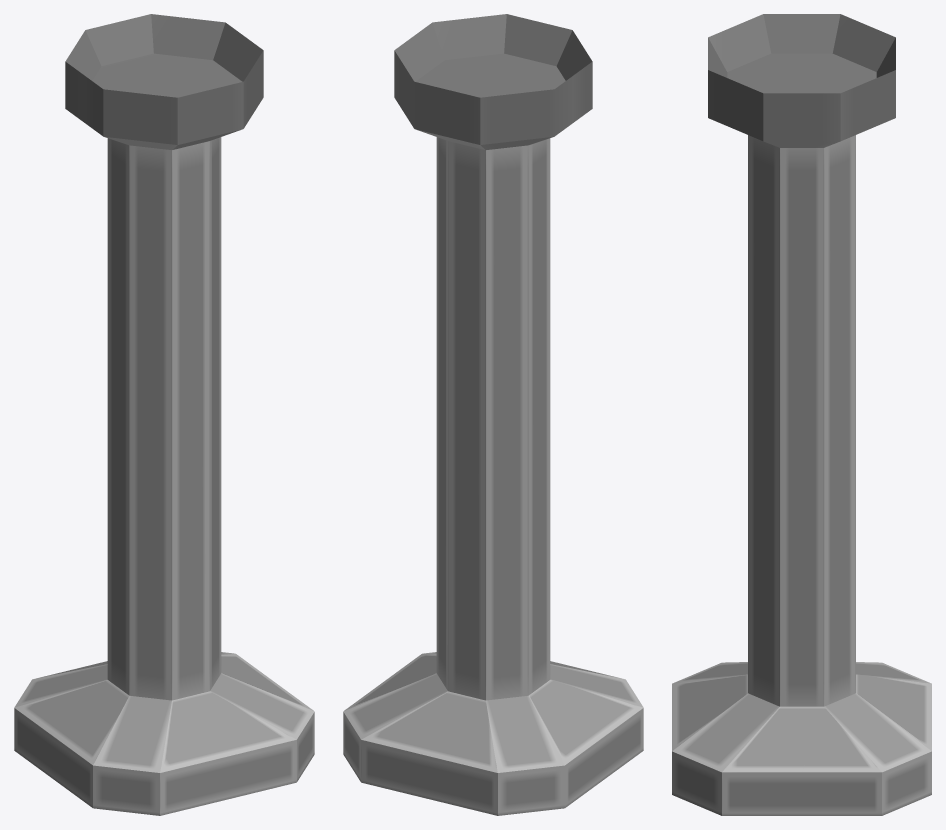
Rendered from torch.fbx.
3 renders of one model, left to right at view 1: azimuth 30°, elevation 25°; view 2: azimuth 150°, elevation 25°; view 3: azimuth 270°, elevation 25°, orthographic.
Parts seen in each view (by area): view 1: Cube; view 2: Cube; view 3: Cube.
Boxes of the visible parts, x1=… form: Cube: x1=14, y1=14, x2=314, y2=815; Cube: x1=343, y1=14, x2=643, y2=815; Cube: x1=672, y1=14, x2=931, y2=815.
Size of the model in its own units: 133 by 399 by 133.
